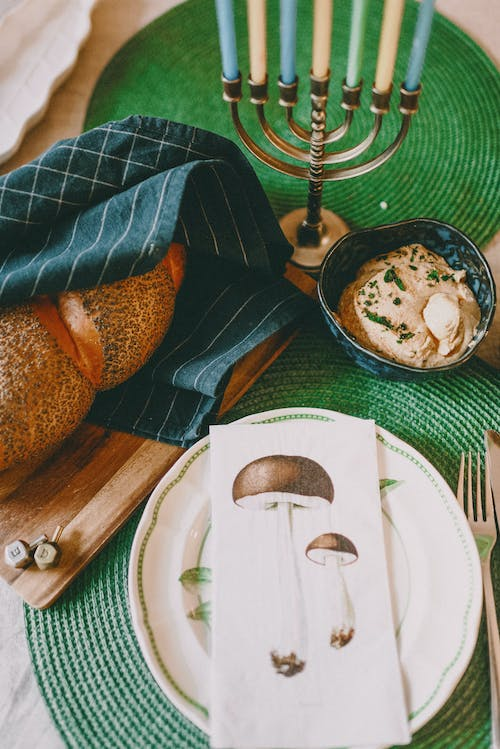knife: (481, 425, 500, 533)
